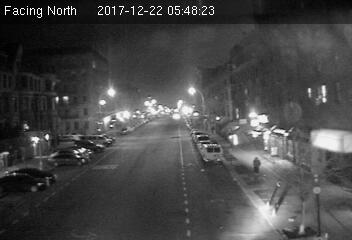pedestrian: (251, 156, 264, 176)
truck: (202, 143, 223, 165)
